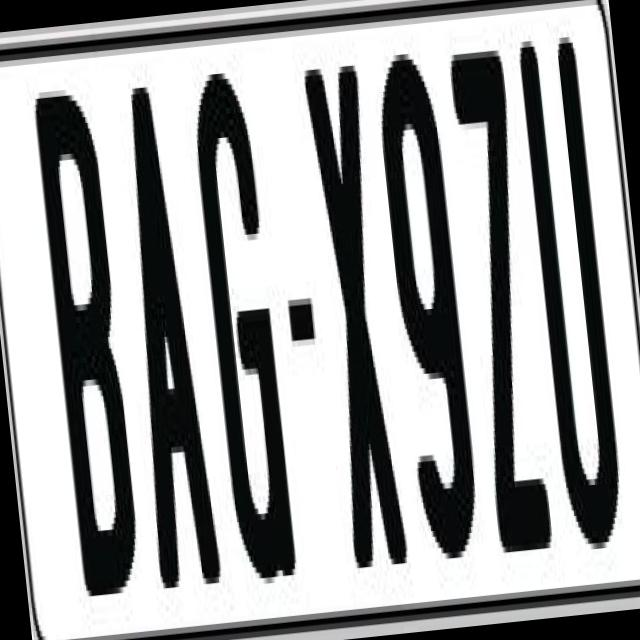9: (368, 51, 484, 573)
A: (109, 79, 222, 606)
B: (32, 91, 152, 632)
G: (185, 70, 300, 598)
U: (514, 30, 624, 558)
X: (299, 65, 410, 598)
Z: (446, 43, 560, 582)
